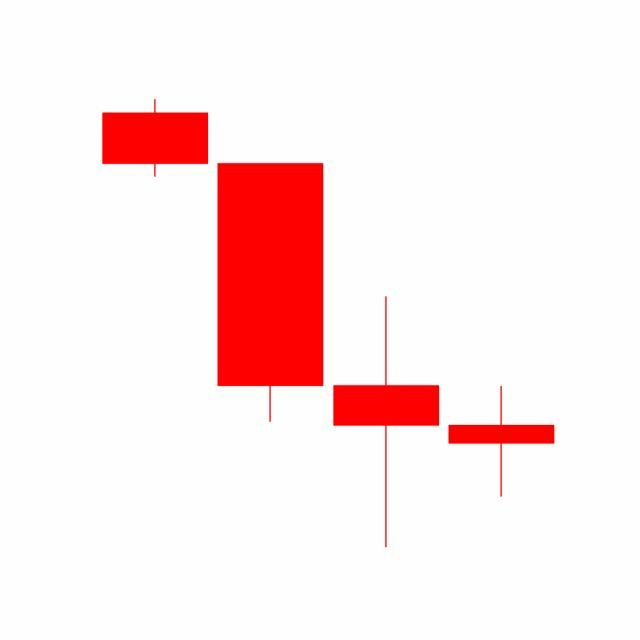Spinning Top: (329, 294, 445, 552)
